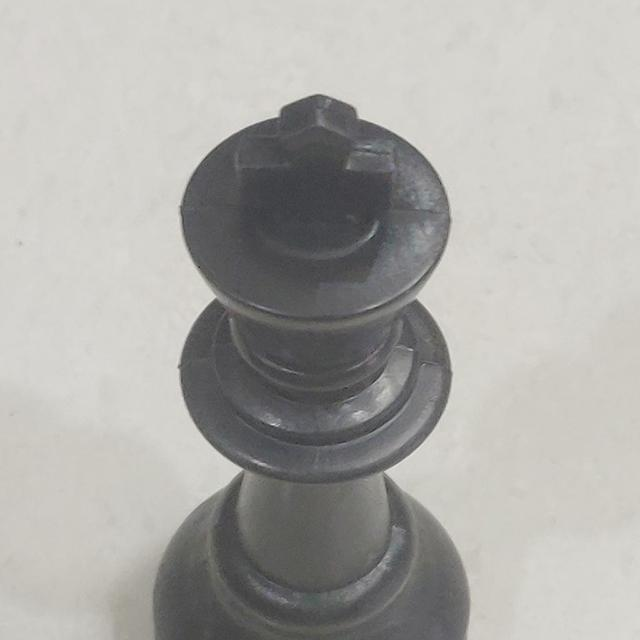black-king: (140, 84, 489, 640)
